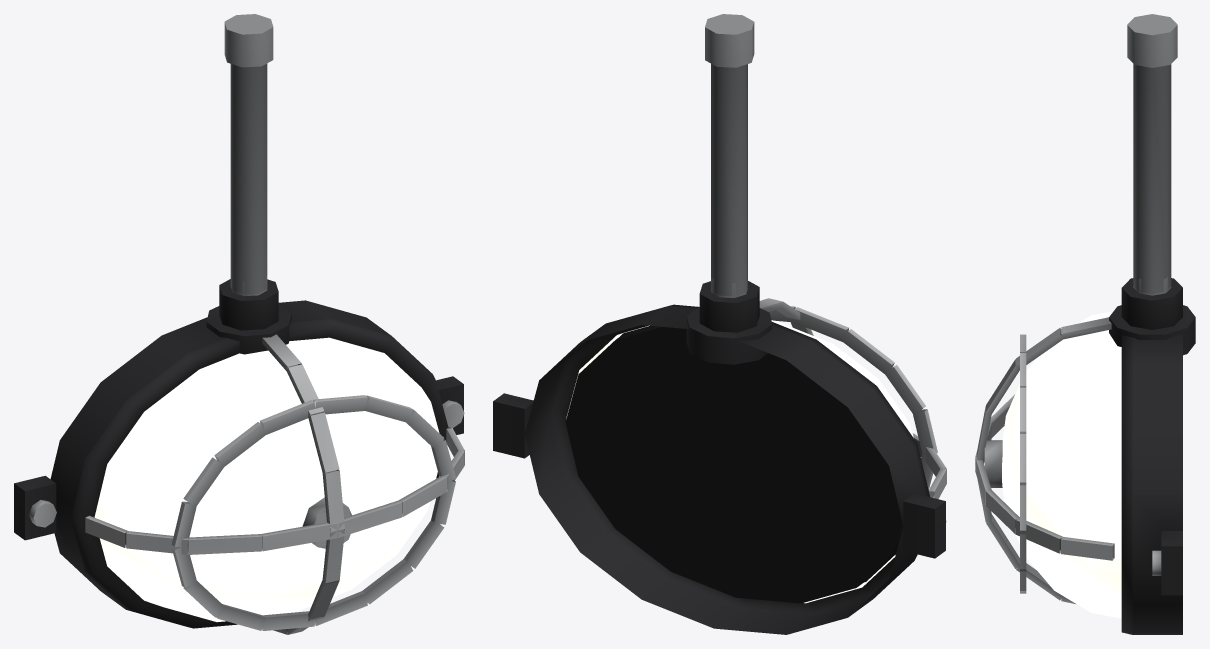
The model's file is tunnel_bulkhead.gltf.
3 views of the same model, side by side, from view 1: azimuth 30°, elevation 25°; view 2: azimuth 150°, elevation 25°; view 3: azimuth 270°, elevation 25° (orthographic).
Visible parts, largest first — view 1: TunnelBulkhead_Glow, TunnelBulkhead_Body, TunnelBulkhead_Cage, TunnelBulkhead_Conduit; view 2: TunnelBulkhead_Body, TunnelBulkhead_Conduit, TunnelBulkhead_Cage, TunnelBulkhead_Glow; view 3: TunnelBulkhead_Glow, TunnelBulkhead_Body, TunnelBulkhead_Conduit, TunnelBulkhead_Cage.
Part boxes in pixels (<box>): TunnelBulkhead_Glow: <box>94,337,439,622</box>; TunnelBulkhead_Body: <box>14,279,463,628</box>; TunnelBulkhead_Cage: <box>29,272,464,634</box>; TunnelBulkhead_Conduit: <box>224,14,273,294</box>; TunnelBulkhead_Body: <box>493,281,945,634</box>; TunnelBulkhead_Conduit: <box>705,14,754,296</box>; TunnelBulkhead_Cage: <box>711,277,946,522</box>; TunnelBulkhead_Glow: <box>566,320,913,603</box>; TunnelBulkhead_Glow: <box>1002,311,1121,618</box>; TunnelBulkhead_Body: <box>1109,278,1195,634</box>; TunnelBulkhead_Conduit: <box>1127,14,1177,293</box>; TunnelBulkhead_Cage: <box>975,277,1171,604</box>.
Size of the model in its own units: 0.28 by 0.359 by 0.1222.
